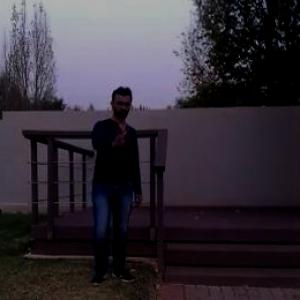takeoff-hand: (104, 120, 135, 155)
